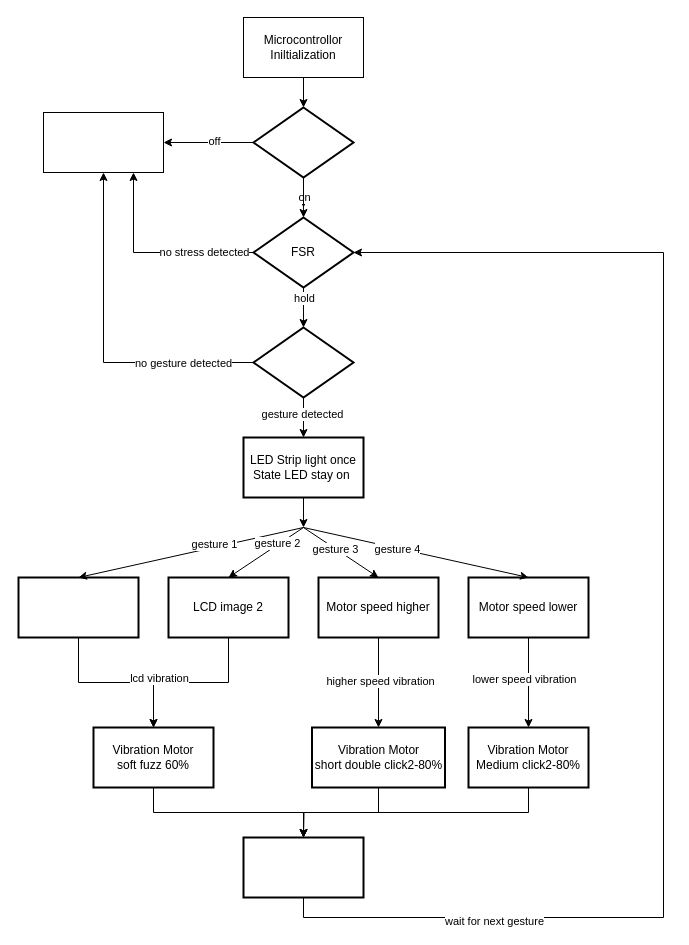
The diagram is 689 pixels wide and 945 high, and some of its shapes have lost their labels. The shapes that lost their labels are listed below. From the top down, each one's centre as x and y in pixels, then its label:
At pixel 103 142: "Sleep Mode".
At pixel 303 142: "Slide switch button".
At pixel 303 362: "IMU".
At pixel 78 607: "LCD image 1".
At pixel 303 867: "State LED OFF".
